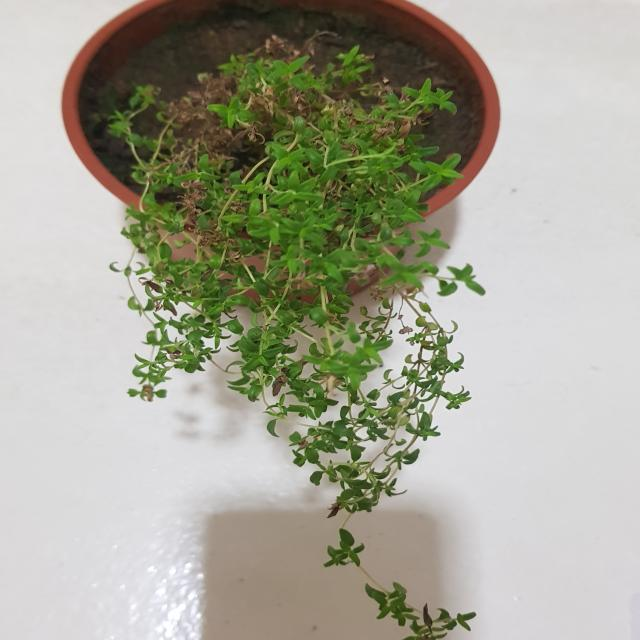Thyme: (80, 34, 563, 640)
